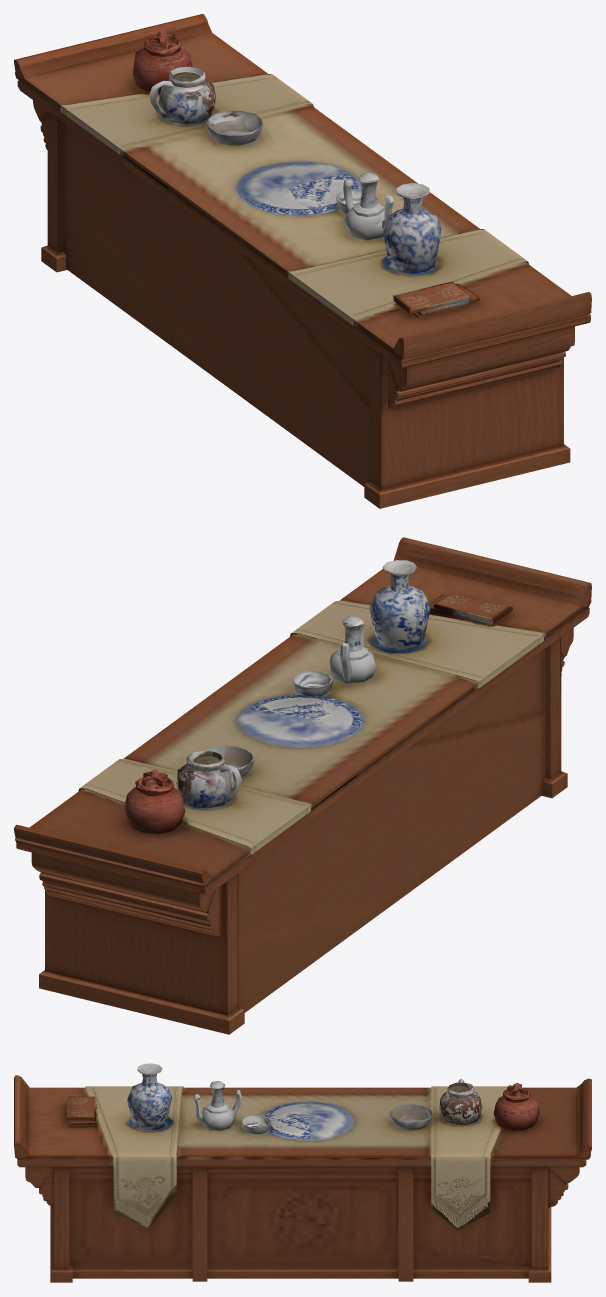
3 views of the same model, one above another, from view 1: azimuth 30°, elevation 25°; view 2: azimuth 150°, elevation 25°; view 3: azimuth 270°, elevation 25° (orthographic). The views are drawn at different scales.
Parts seen in each view (by area): view 1: tripo_node_35fd41a3; view 2: tripo_node_35fd41a3; view 3: tripo_node_35fd41a3.
Boxes of the visible parts, x1=… form: tripo_node_35fd41a3: x1=14, y1=14, x2=591, y2=508; tripo_node_35fd41a3: x1=14, y1=537, x2=591, y2=1034; tripo_node_35fd41a3: x1=14, y1=1063, x2=591, y2=1282.
Size of the model in its own units: 0.2871 by 0.3457 by 0.998.
Materials: 1 (1 with a texture image).
